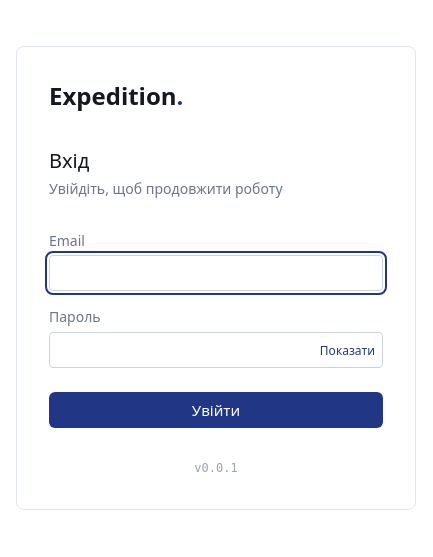
it: LoginView › shows rate limit error on 429
Type "user@example.com" into the field labelled "Email". click: (216,273)
box: [49,255,383,291]
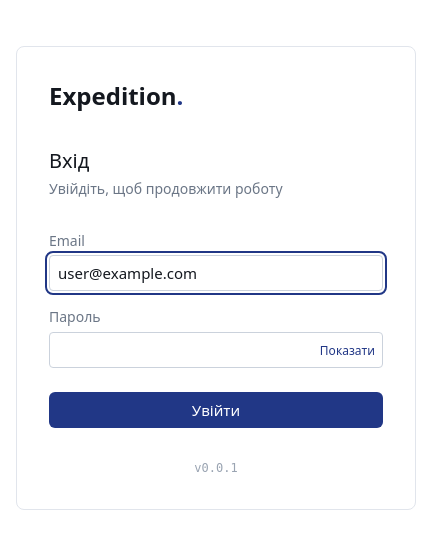
Type "secret" into the password field labelled "Пароль Показати". click: (216,350)
box: [49,332,383,368]
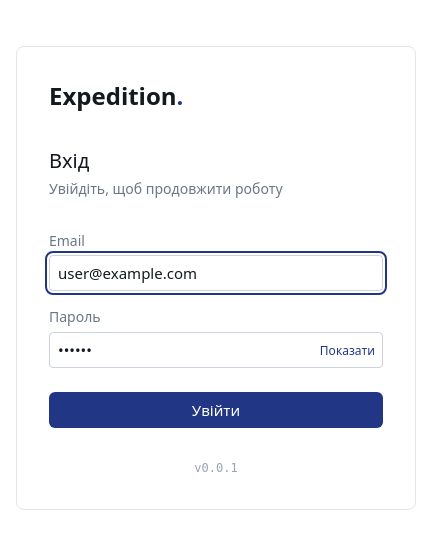
Submit the form
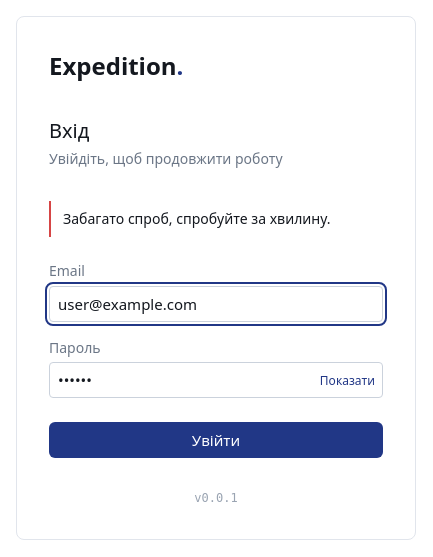
Check: the text "Забагато спроб, спробуйте за хвилину." is shown, box [49,201,383,237]
